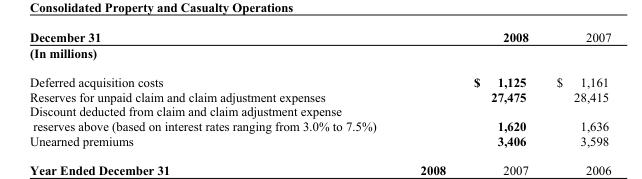table: (28, 29, 610, 147)
table column: (28, 29, 424, 147), (424, 29, 541, 147), (541, 29, 610, 147)
table column header: (28, 29, 610, 44)
table projected row header: (28, 44, 610, 67), (28, 103, 610, 118)
table row: (28, 44, 610, 67), (28, 67, 610, 89), (28, 29, 610, 44), (28, 103, 610, 118), (28, 118, 610, 133), (28, 89, 610, 103), (28, 133, 610, 147)
